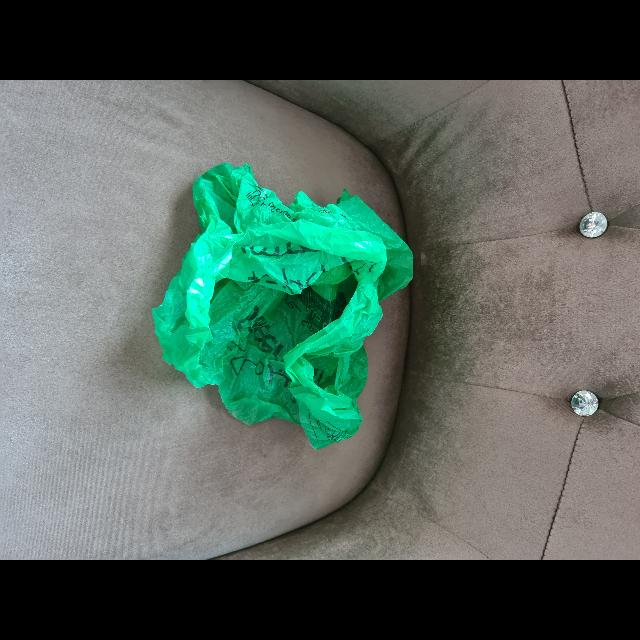plastic_bag: (141, 155, 419, 449)
